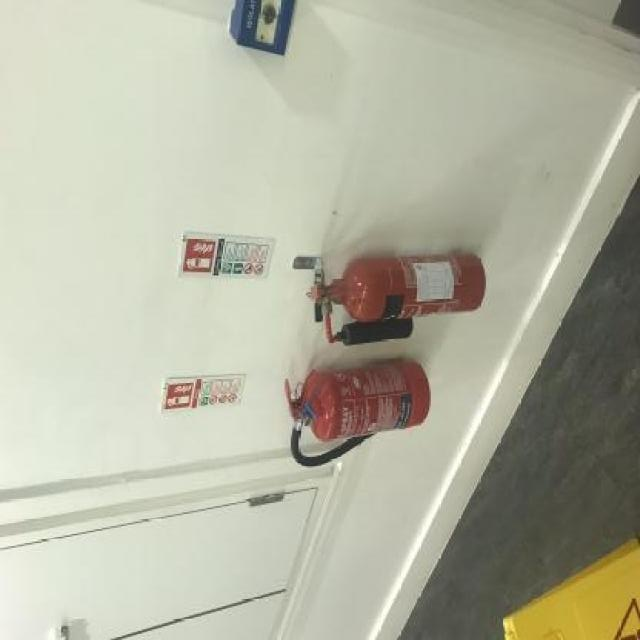fire extinguisher: (312, 251, 485, 346), (283, 360, 432, 466)
